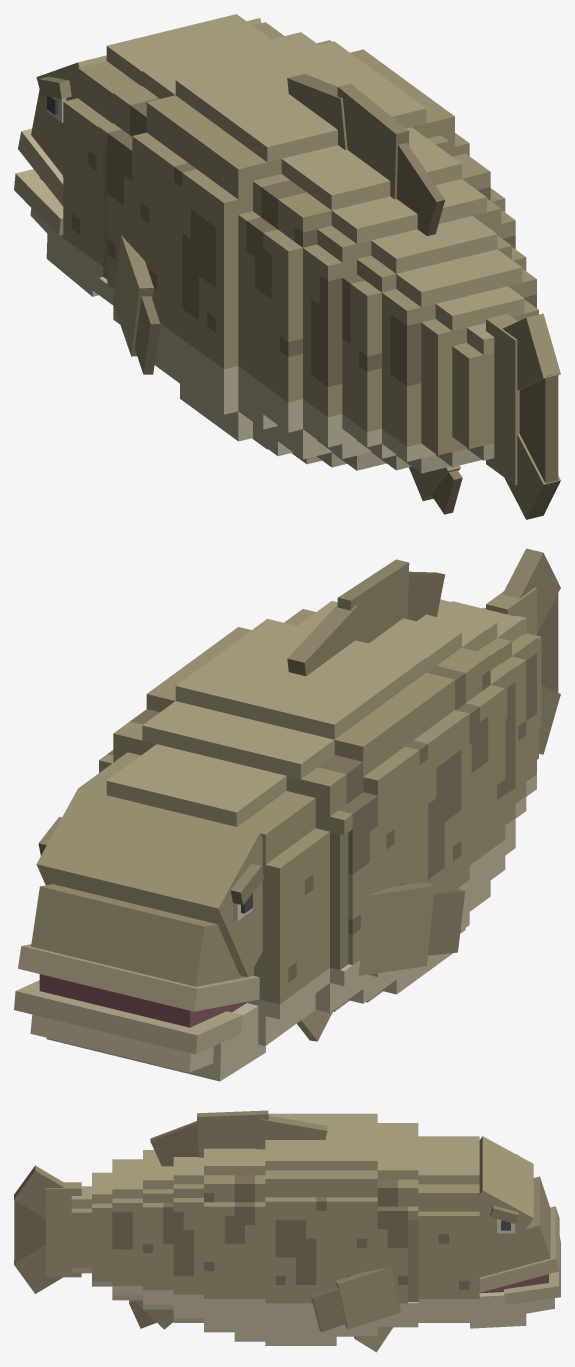
Rendered from GoliathGrouper.glb.
3 views of the same model, one above another, from view 1: azimuth 30°, elevation 25°; view 2: azimuth 150°, elevation 25°; view 3: azimuth 270°, elevation 25° (orthographic). The views are drawn at different scales.
Visible parts, largest first — view 1: B2, B4, B3, B1, B5, Head, Tail, PecL, Jaw; view 2: Head, B1, B2, B3, Jaw, B4, PecL, Tail, B5; view 3: Head, B2, B1, B3, B4, Tail, B5, PecR, Jaw.
Boxes of the visible parts, x1,y1,x2,y2 form: B2: (165,66,469,449); B4: (303,142,526,514); B3: (238,83,505,467); B1: (99,32,396,383); B5: (382,249,538,473); Head: (18,14,283,304); Tail: (452,313,560,519); PecL: (113,235,160,374); Jaw: (14,169,98,296); Head: (18,744,329,1046); B1: (99,661,411,1041); B2: (180,605,469,1002); B3: (284,559,505,933); Jaw: (14,980,265,1081); B4: (408,571,526,855); PecL: (358,882,465,975); Tail: (482,548,560,754); B5: (438,599,538,796); Head: (418,1136,559,1322); B2: (256,1113,336,1345); B1: (336,1113,418,1352); B3: (197,1110,268,1341); B4: (129,1121,203,1329); Tail: (14,1165,91,1293); B5: (92,1159,142,1300); PecR: (311,1267,400,1332); Jaw: (470,1236,560,1328).
Bounding box in the file's own units: 9.8 × 10.83 × 24.14.
